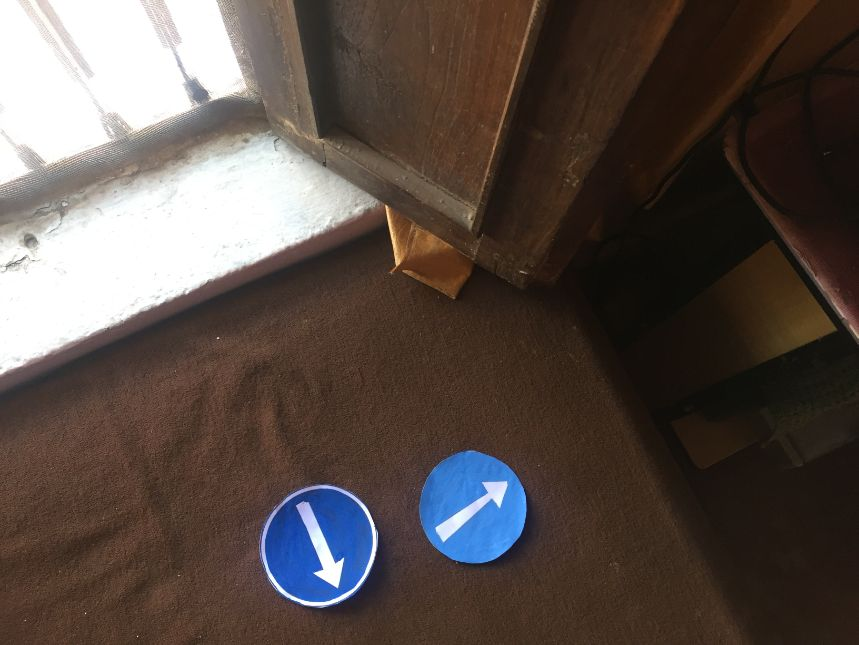go-stright: (259, 482, 380, 608)
keep-left: (418, 451, 529, 562)
